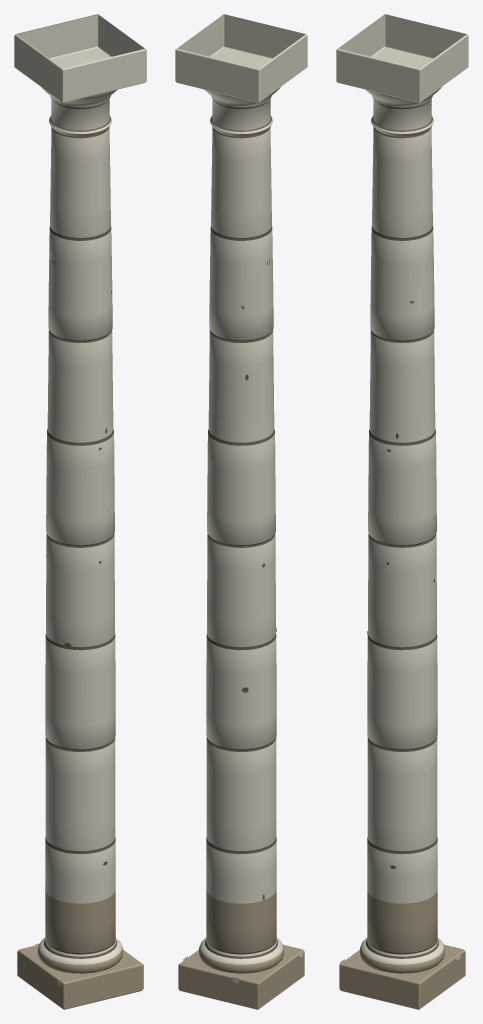
The model's file is column_tuff.glb.
3 renders of one model, left to right at view 1: azimuth 30°, elevation 25°; view 2: azimuth 150°, elevation 25°; view 3: azimuth 330°, elevation 25°, orthographic.
Visible parts, largest first — view 1: saeule; view 2: saeule; view 3: saeule.
Boxes of the visible parts, <box> form: saeule: <box>14,14,146,1009</box>; saeule: <box>175,14,307,1009</box>; saeule: <box>336,14,468,1009</box>.
Bounding box in the file's own units: 0.96 × 10.2 × 0.96.
